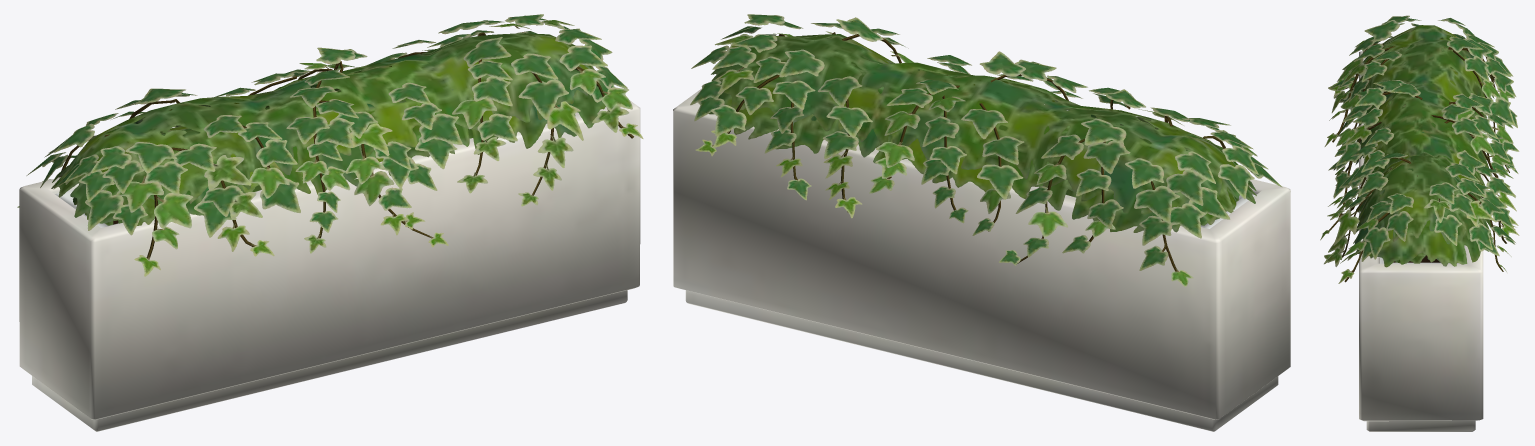
3 views of the same model, side by side, from view 1: azimuth 30°, elevation 25°; view 2: azimuth 150°, elevation 25°; view 3: azimuth 270°, elevation 25° (orthographic). The views are drawn at different scales.
Bounding box in the file's own units: 20 × 9.78 × 7.65.
1 material, 1 textured.
